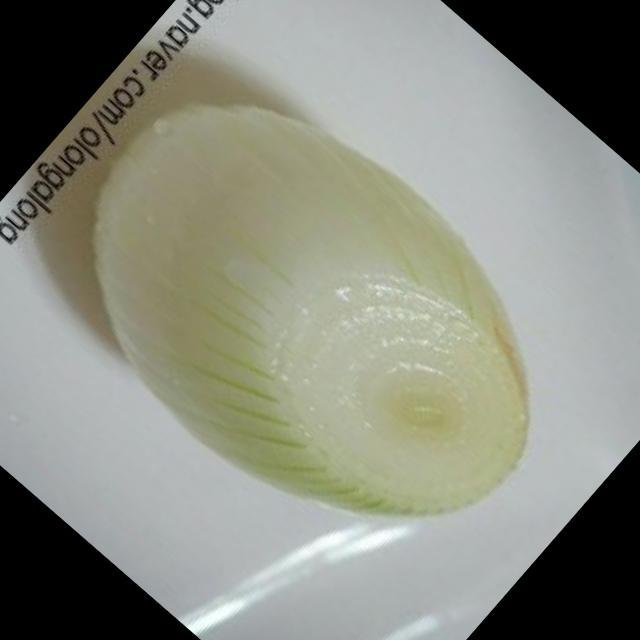Onion: (92, 105, 528, 512)
